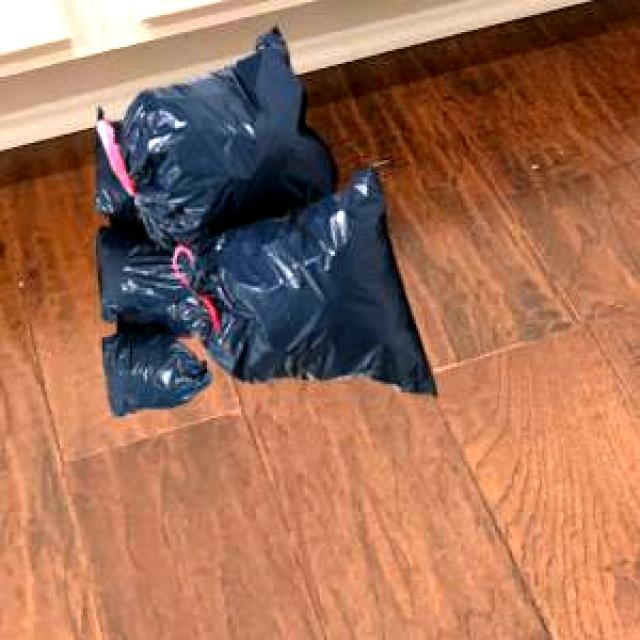Garbage_Bag: (96, 24, 433, 393), (93, 118, 208, 414)
